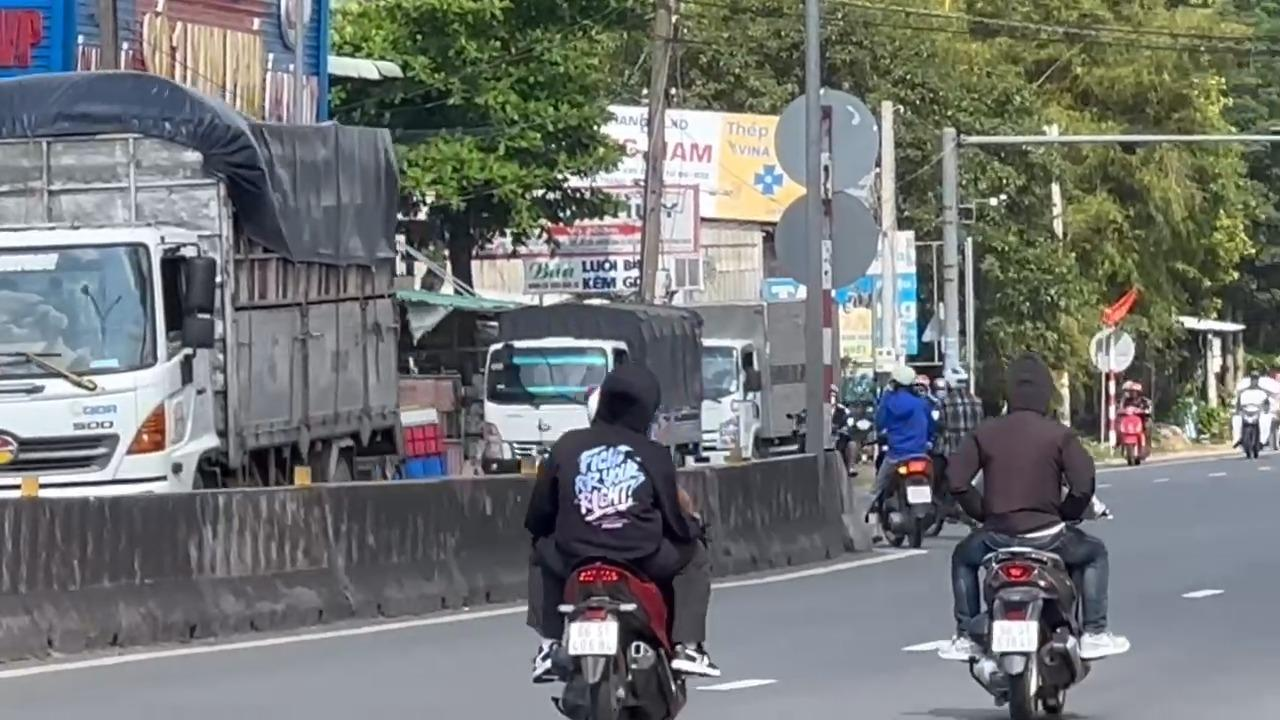bien_so: (566, 619, 620, 657), (989, 618, 1039, 653)
